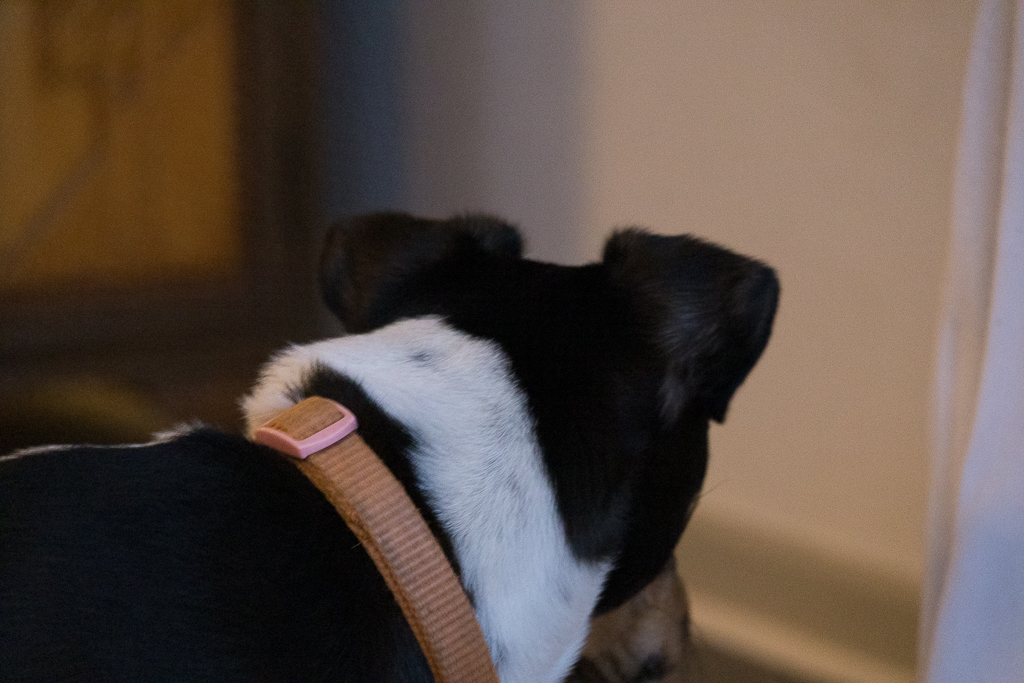Dog: (0, 197, 796, 683)
